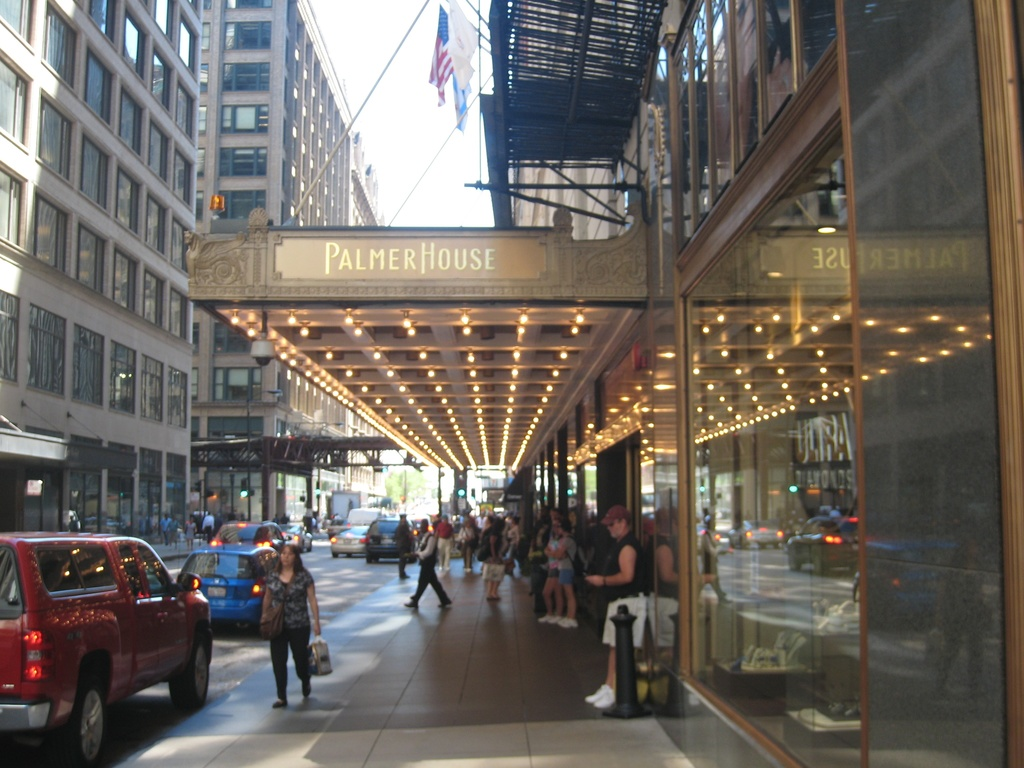mobil: (1, 522, 212, 755)
